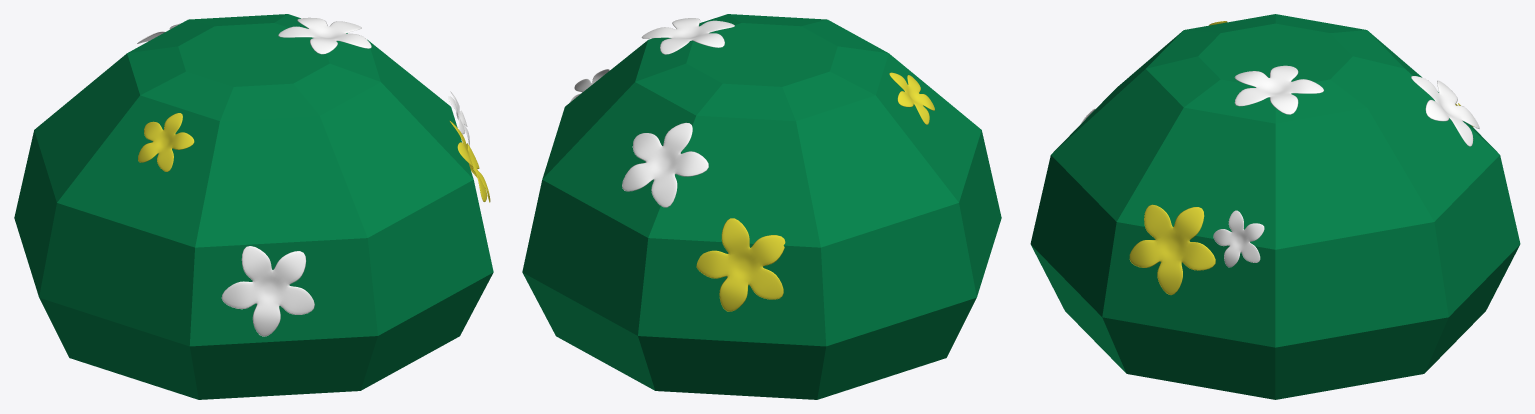
File: M_bush2.fbx
3 renders of one model, left to right at view 1: azimuth 30°, elevation 25°; view 2: azimuth 150°, elevation 25°; view 3: azimuth 270°, elevation 25°, orthographic.
Visible parts, largest first — view 1: Plane.005; view 2: Plane.005; view 3: Plane.005.
Boxes of the visible parts, x1,y1,x2,y2 form: Plane.005: (14,14,493,399); Plane.005: (522,14,1001,399); Plane.005: (1030,14,1520,399).
Bounding box in the file's own units: 189 × 112 × 189.
